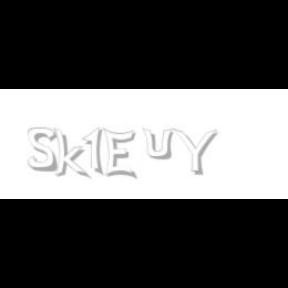1: (82, 128, 104, 176)
E: (104, 128, 136, 180)
S: (28, 128, 58, 172)
Y: (172, 128, 218, 176)
k: (53, 128, 91, 180)
u: (142, 128, 178, 160)
